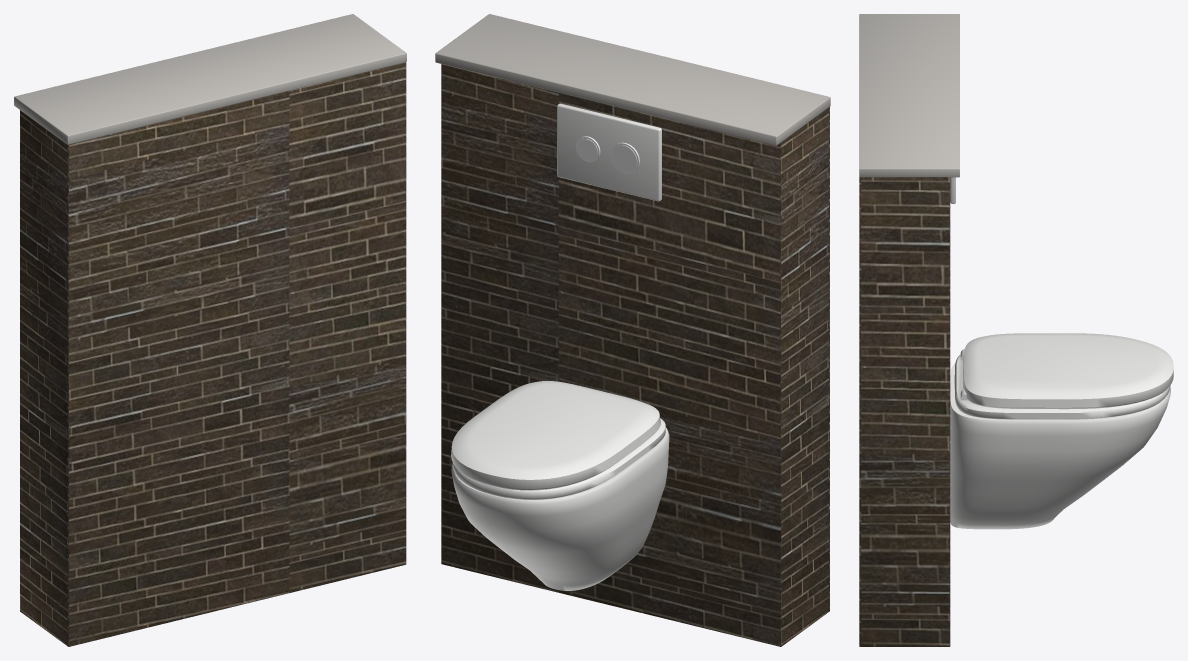
The model's file is recDtgA8NZJTuf9qF.glb.
The picture shows the model from 3 angles, left to right: view 1: azimuth 30°, elevation 25°; view 2: azimuth 150°, elevation 25°; view 3: azimuth 270°, elevation 25°; orthographic projection. The views are drawn at different scales.
Parts seen in each view (by area): view 1: WC_Salle_De_Bain_Corps; view 2: WC_Salle_De_Bain_Corps; view 3: WC_Salle_De_Bain_Corps.
Boxes of the visible parts, x1,y1,x2,y2 form: WC_Salle_De_Bain_Corps: [14, 14, 406, 646]; WC_Salle_De_Bain_Corps: [435, 14, 830, 646]; WC_Salle_De_Bain_Corps: [859, 14, 1173, 646].
Size of the model in its own units: 0.814 by 1.17 by 0.698.
6 materials, 1 textured.
